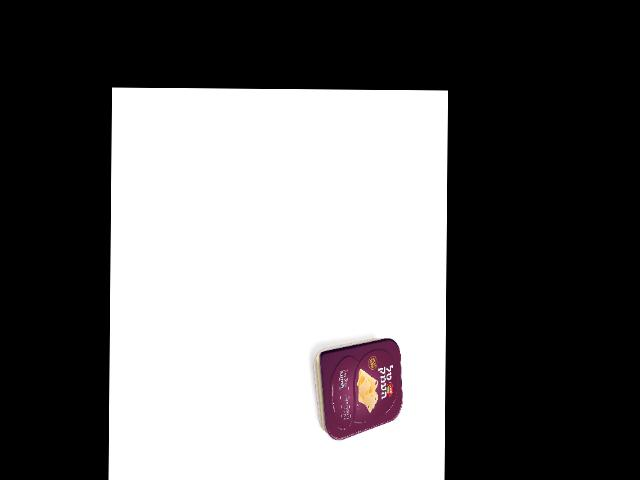cheese: (313, 337, 403, 441)
